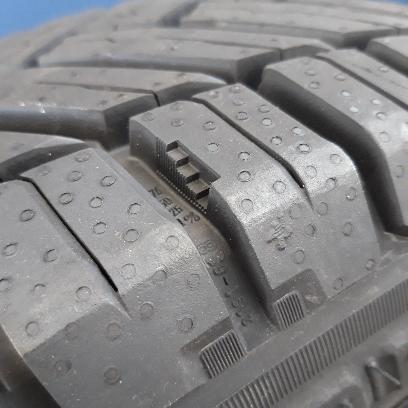temoin:100: (154, 135, 222, 219)
